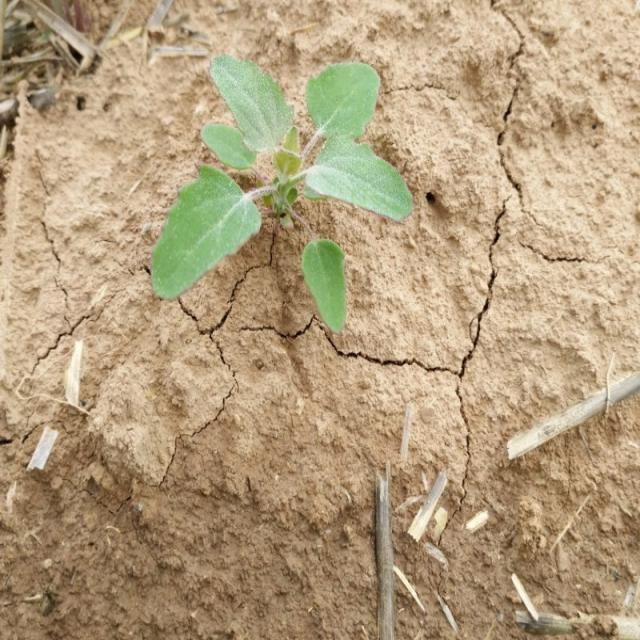ca: (147, 52, 410, 336)
